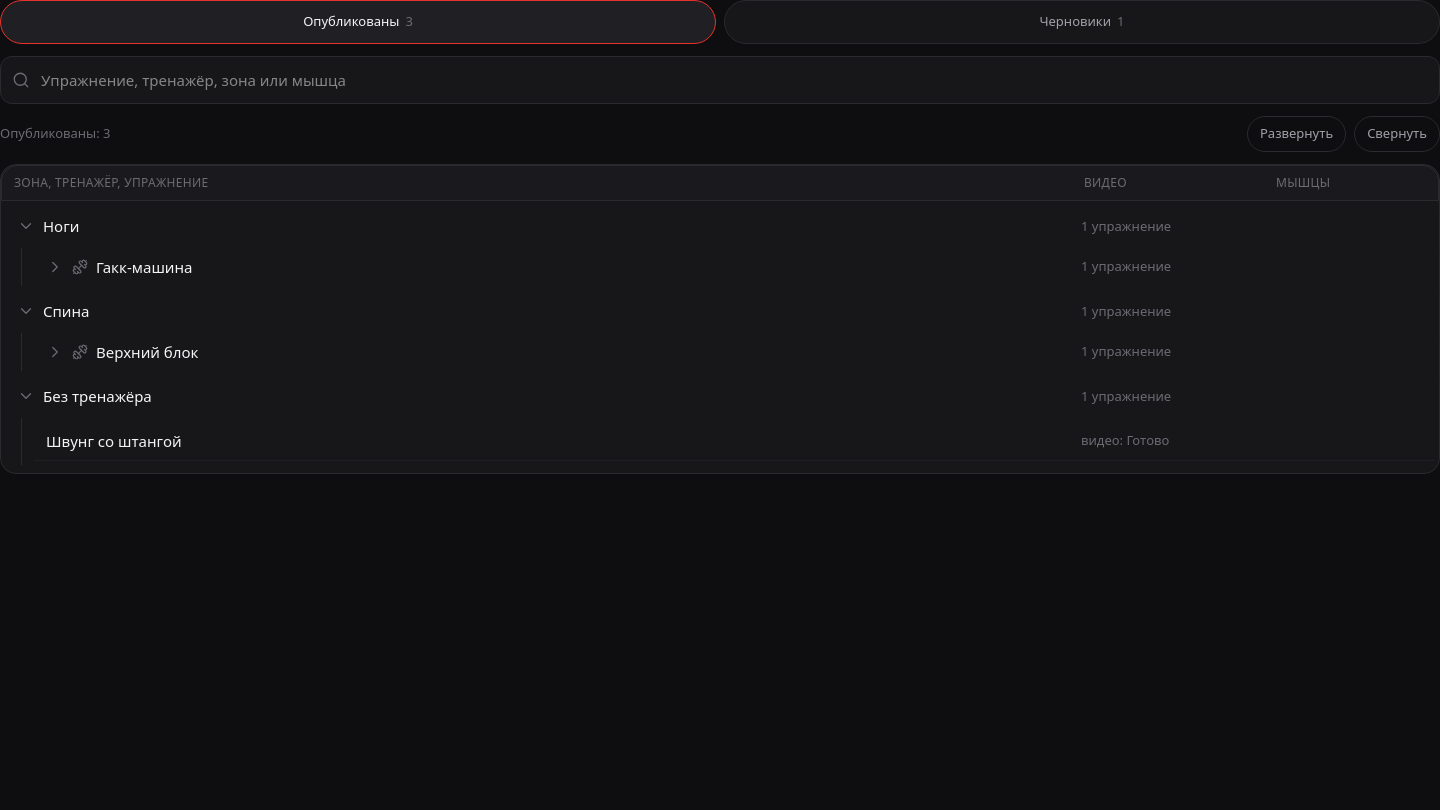
Test case: касание упражнения открывает окно правки, а не уводит со страницы
This screenshot has width=1440, height=810.
Click the button "Швунг со штангой видео: Готово" at (114, 440), box top-left (34, 422), bottom-right (1435, 461)
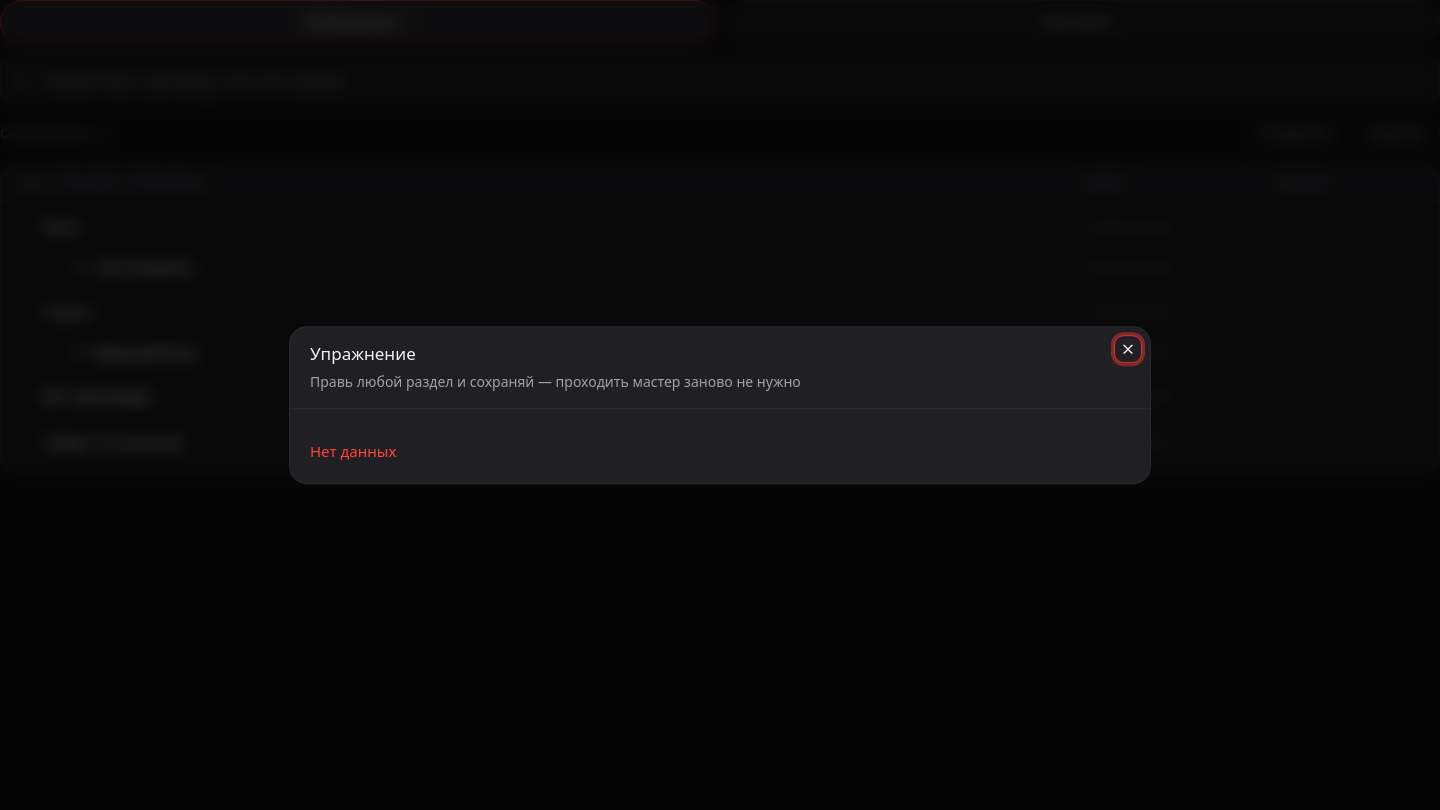
Expected: the text "Нет данных" is shown, top-left (310, 441), bottom-right (396, 461)
